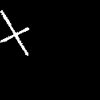single_crochet: (1, 11, 28, 55)
